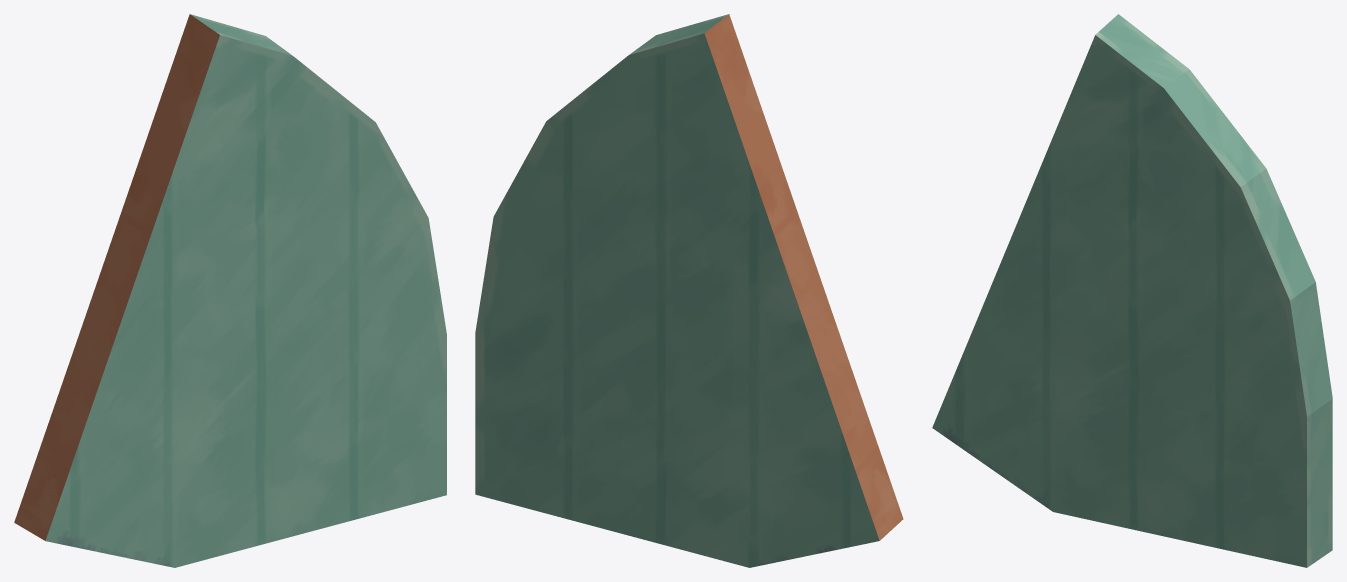
File: door2_teal_s01.fbx
3 renders of one model, left to right at view 1: azimuth 30°, elevation 25°; view 2: azimuth 150°, elevation 25°; view 3: azimuth 330°, elevation 25°, orthographic. The views are drawn at different scales.
Parts seen in each view (by area): view 1: door2_teal_s01; view 2: door2_teal_s01; view 3: door2_teal_s01.
Part boxes in pixels (x1,y1,x2,y2): door2_teal_s01: (14, 14, 446, 567); door2_teal_s01: (475, 14, 903, 567); door2_teal_s01: (932, 14, 1332, 567).
Bounding box in the file's own units: 2.37 × 2.94 × 0.28.
